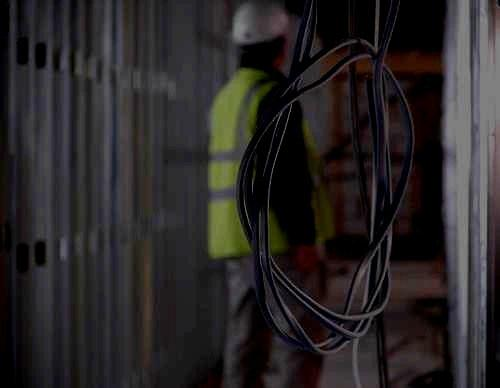helmet: (230, 1, 292, 69)
